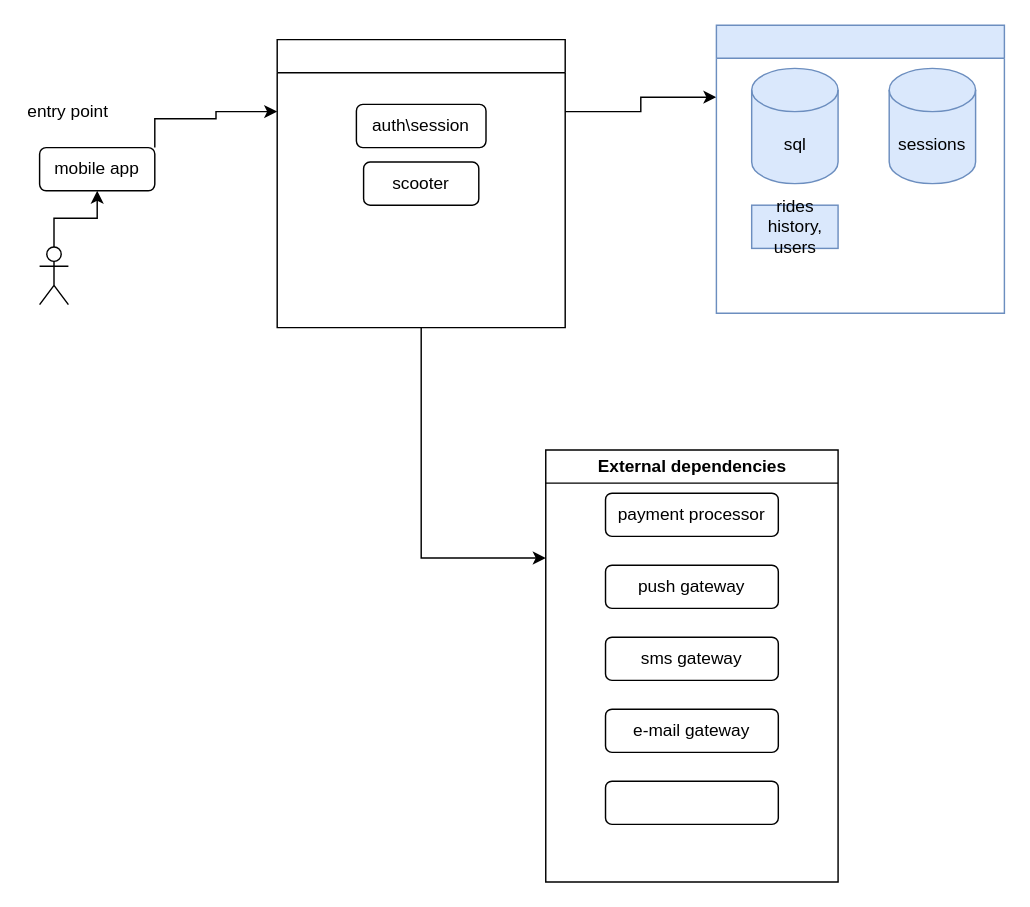
This 1030x907 diagram has some shape labels left out. Here are the shapes that lost their labels. From the top down, the box of each, then its label:
(276, 38, 565, 328): Backend
(715, 24, 1004, 313): Storage
(38, 246, 68, 305): dude
(604, 780, 778, 824): apple\google authentication
